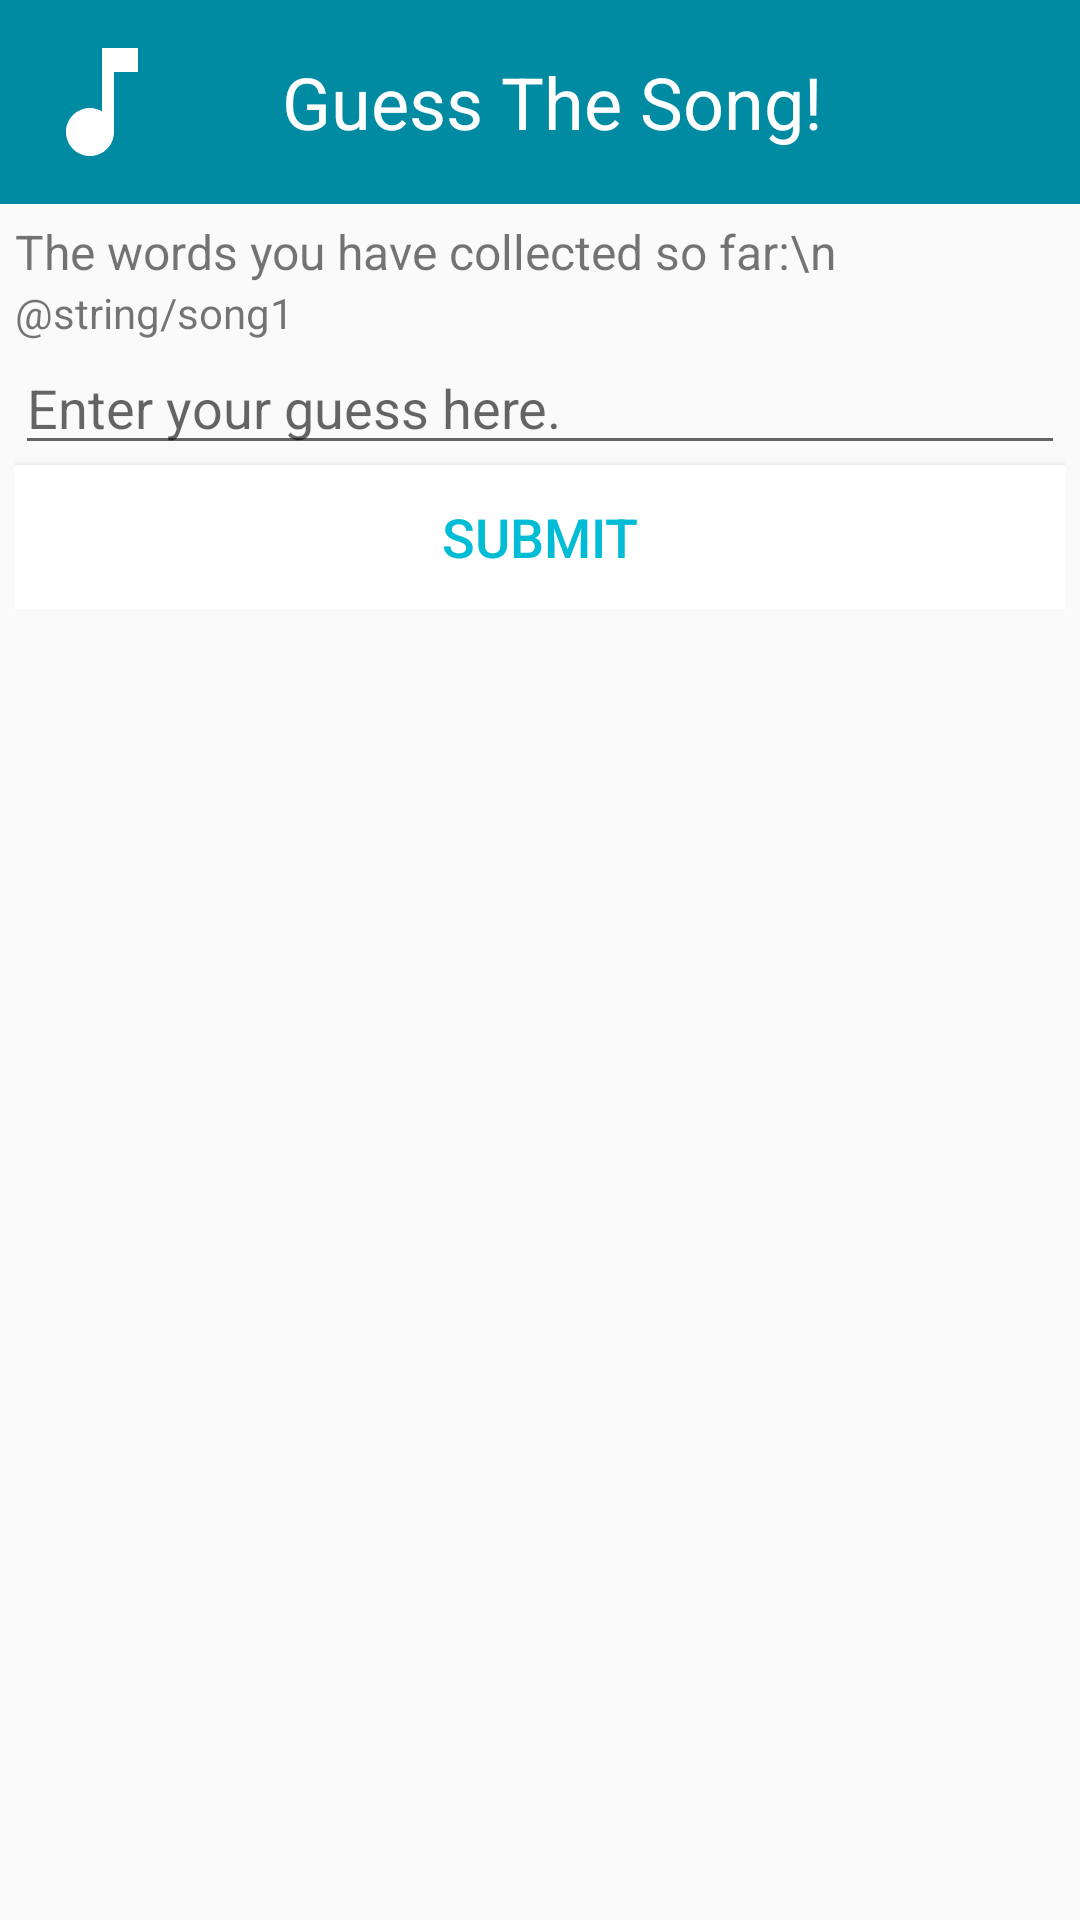

Icon click points for this 1080 × 1920 phone screenshot, format point (x, y):
music note: point (102, 102)
